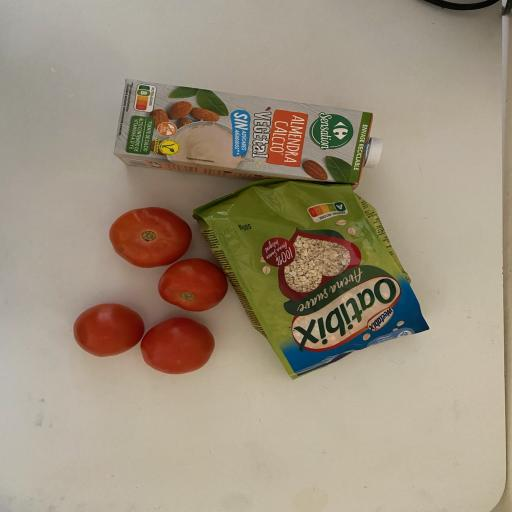milk_almendra: (106, 76, 388, 187)
oat: (188, 178, 432, 380)
tomato: (103, 203, 195, 270), (140, 314, 216, 376), (153, 256, 232, 313), (70, 300, 147, 358)
